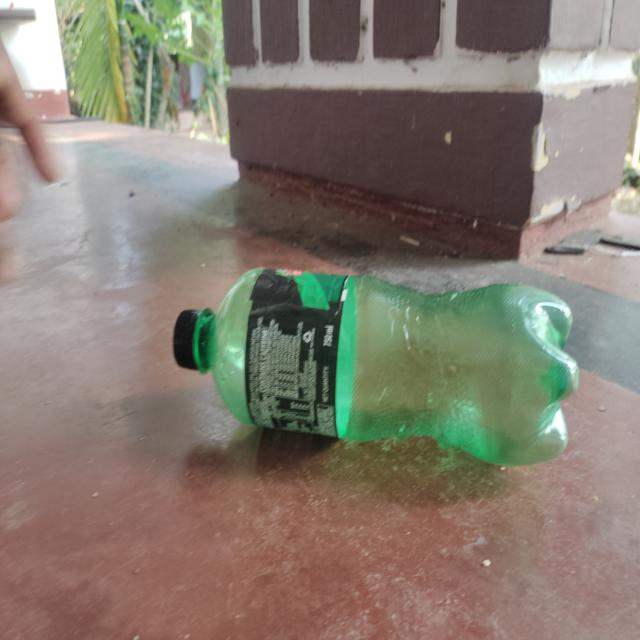plastic: (168, 265, 582, 463)
